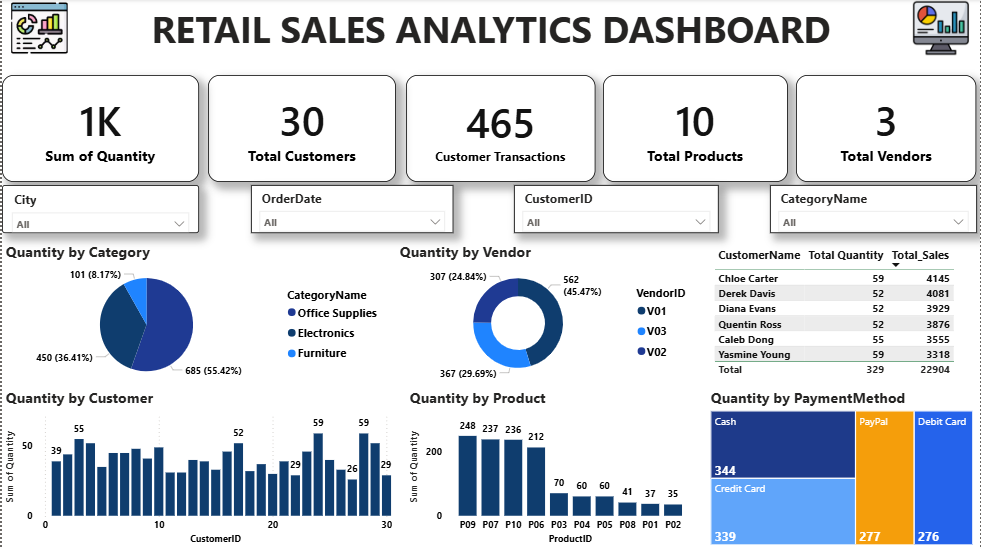

The page's visual inventory and layout, read from the dashboard file:
{"tool":"powerbi","page":{"name":"Quantity wise Analysis","canvas":[1280,720],"ordinal":2},"visuals":[{"type":"columnChart","title":"Quantity by Customer","fields":{"Category":["Customers.CustomerID"],"Y":["Sum(CustomerPurchases.Quantity)"]},"box":[0,509.8,515.5,210.2],"z":0},{"type":"donutChart","title":"Quantity by Vendor","fields":{"Category":["Vendors.VendorID"],"Series":["Vendors.VendorName"],"Y":["Sum(CustomerPurchases.Quantity)"]},"box":[515.5,318.2,407.5,187.2],"z":1000},{"type":"columnChart","title":"Quantity by Product","fields":{"Category":["Products.ProductID"],"Y":["Sum(CustomerPurchases.Quantity)"]},"box":[528.5,509.8,378.7,210.2],"z":2000},{"type":"pieChart","title":" Quantity  by Category","fields":{"Category":["Categories (2).CategoryName"],"Y":["Sum(CustomerPurchases.Quantity)"]},"box":[0,318.2,505.4,191.5],"z":3000},{"type":"textbox","box":[0,0,1280,75.7],"z":4000},{"type":"image","box":[1177.9,0,102.1,75.7],"z":5000},{"type":"image","box":[0,0,98.6,75.7],"z":6000},{"type":"cardVisual","fields":{"Data":["Sum(Customers.CustomerID)"]},"box":[528.5,99.4,247.7,139.7],"z":7000},{"type":"cardVisual","fields":{"Data":["Count(Products.ProductID)"]},"box":[786.2,99.4,241.9,139.7],"z":8000},{"type":"cardVisual","fields":{"Data":["Count(Vendors.VendorID)"]},"box":[1039.7,99.4,236.2,139.7],"z":9000},{"type":"cardVisual","fields":{"Data":["CountNonNull(Customers.CustomerID)"]},"box":[269.3,99.4,246.2,139.7],"z":10000},{"type":"cardVisual","fields":{"Data":["Sum(CustomerPurchases.Quantity)"]},"box":[0,99.4,257.8,139.7],"z":11000},{"type":"tableEx","fields":{"Values":["Customers.CustomerName","Sum(CustomerPurchases.Quantity)","CustomerPurchases.Total_Sales"]},"box":[927.4,318.2,352.8,187.2],"z":12000},{"type":"treemap","title":"Quantity by PaymentMethod ","fields":{"Group":["CustomerPurchases.PaymentMethod"],"Values":["Sum(CustomerPurchases.Quantity)"]},"box":[923,509.8,352.8,210.2],"z":13000},{"type":"slicer","fields":{"Values":["Customers.City"]},"box":[0,243.4,257.8,63.4],"z":14000},{"type":"slicer","fields":{"Values":["CustomerPurchases.OrderDate"]},"box":[325.4,243.4,265,63.4],"z":15000},{"type":"slicer","fields":{"Values":["Categories (2).CategoryName"]},"box":[1005.1,243.4,270.7,63.4],"z":16000},{"type":"slicer","fields":{"Values":["CustomerPurchases.CustomerID"]},"box":[669.6,243.4,267.8,63.4],"z":17000}]}

Visuals, with their boxes in screenshot pixels (x1, y1, x2, y2), scaled from the page's 1280x720 canvas onto the 981x549 screenshot:
"Quantity by Customer" columnChart: box=[0, 389, 395, 548]
"Quantity by Vendor" donutChart: box=[395, 243, 707, 385]
"Quantity by Product" columnChart: box=[405, 389, 695, 548]
" Quantity  by Category" pieChart: box=[0, 243, 387, 389]
textbox: box=[0, 0, 980, 58]
image: box=[903, 0, 980, 58]
image: box=[0, 0, 76, 58]
cardVisual - Sum(Customers.CustomerID): box=[405, 76, 595, 182]
cardVisual - Count(Products.ProductID): box=[603, 76, 788, 182]
cardVisual - Count(Vendors.VendorID): box=[797, 76, 978, 182]
cardVisual - CountNonNull(Customers.CustomerID): box=[206, 76, 395, 182]
cardVisual - Sum(CustomerPurchases.Quantity): box=[0, 76, 198, 182]
tableEx - Customers.CustomerName x Sum(CustomerPurchases.Quantity): box=[711, 243, 980, 385]
"Quantity by PaymentMethod " treemap: box=[707, 389, 978, 548]
slicer - Customers.City: box=[0, 186, 198, 234]
slicer - CustomerPurchases.OrderDate: box=[249, 186, 452, 234]
slicer - Categories (2).CategoryName: box=[770, 186, 978, 234]
slicer - CustomerPurchases.CustomerID: box=[513, 186, 718, 234]
